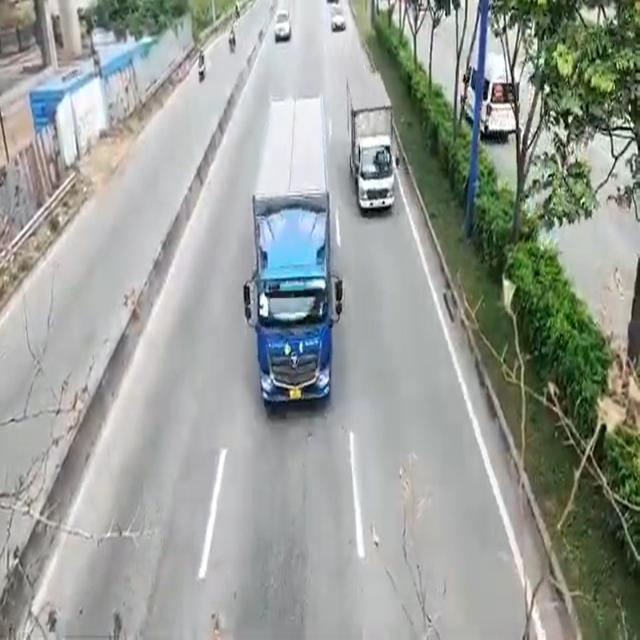car: (272, 9, 292, 46)
truck: (258, 101, 333, 418), (345, 78, 397, 215)
